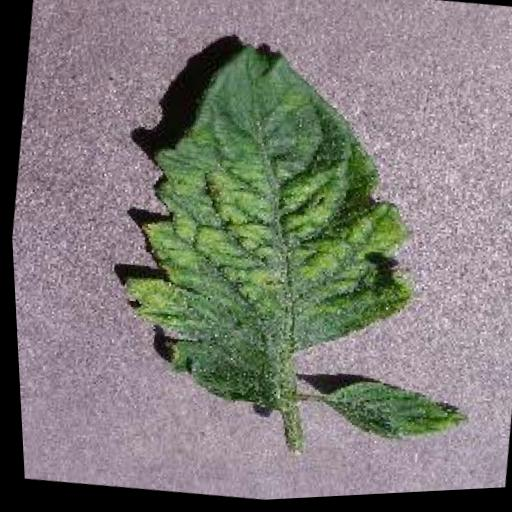Mosaic Virus: (93, 18, 450, 443), (319, 372, 471, 458)
